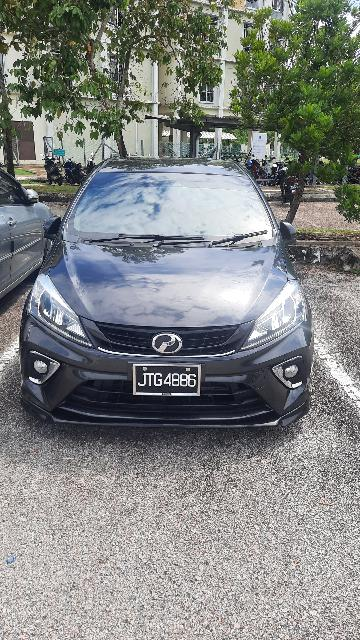License_Plate: (135, 357, 204, 401)
car: (18, 154, 321, 433)
